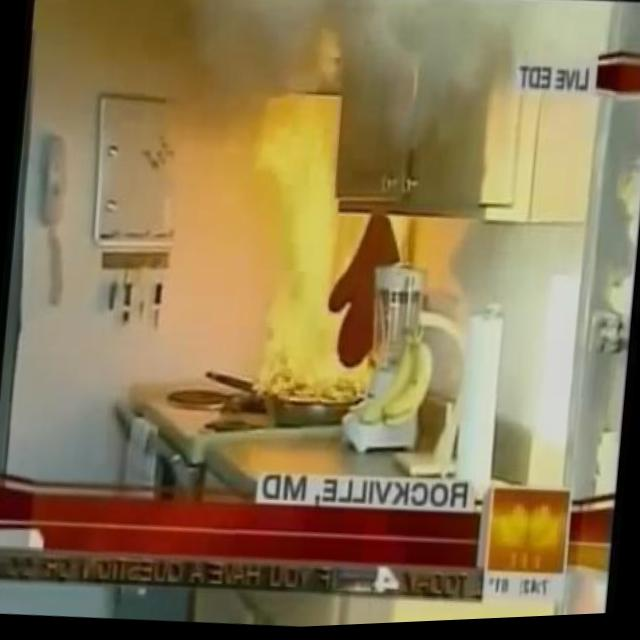fire: (239, 28, 403, 413)
